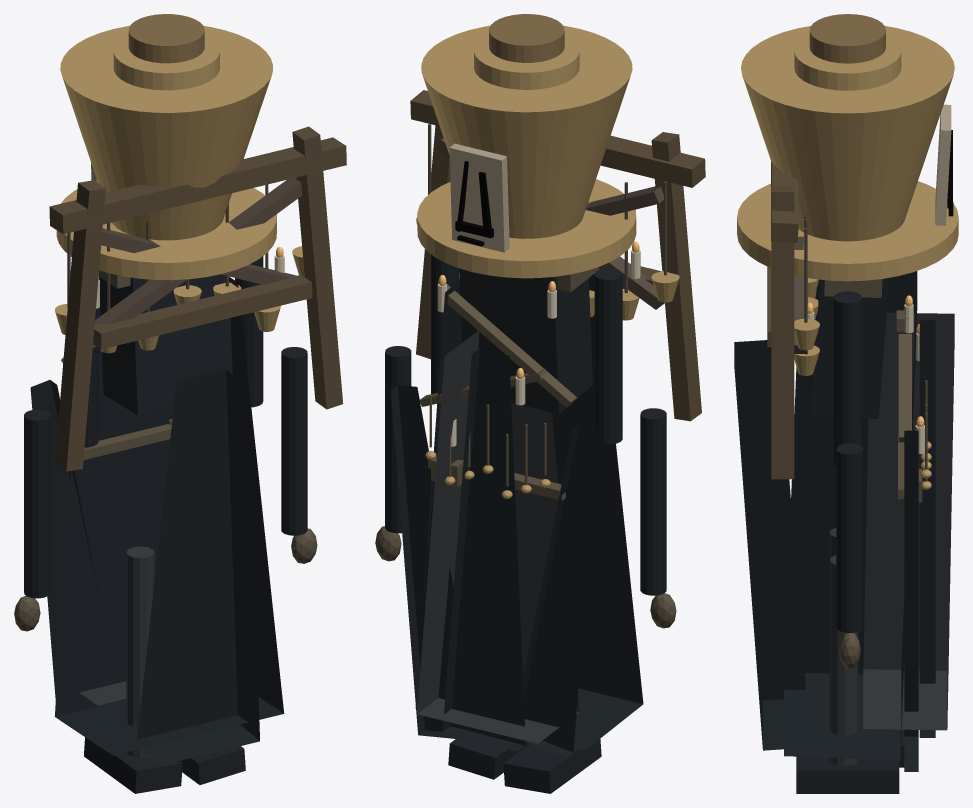
Rendered from bell_saint_v3_blockout.glb.
3 renders of one model, left to right at view 1: azimuth 30°, elevation 25°; view 2: azimuth 150°, elevation 25°; view 3: azimuth 270°, elevation 25°, orthographic.
Visible parts, largest first — view 1: BS3_BackDraggingPanel, BS3_MainRobe_tapered_mass, BS3_BellHead_outer_flared, BS3_UpperChest_under_cloth, BS3_BackFrame_left_post, BS3_BellHead_heavy_lower_rim, BS3_BackFrame_horizontal_top, BS3_BackFrame_right_post, BS3_BackFrame_horizontal_low, BS3_LeftForeSleeve_long, BS3_RightForeSleeve_long, BS3_LeftSideTornPanel (+13 smaller); view 2: BS3_BellHead_outer_flared, BS3_FrontLongTornPanel, BS3_InnerRobe_shadow, BS3_MainRobe_tapered_mass, BS3_LeftSideTornPanel, BS3_UpperChest_under_cloth, BS3_BellHead_heavy_lower_rim, BS3_RightSideTornPanel, BS3_BackFrame_left_post, BS3_LeftForeSleeve_long, BS3_LeftUpperSleeve_long, BS3_HangingWarningPlate (+15 smaller); view 3: BS3_BellHead_outer_flared, BS3_InnerRobe_shadow, BS3_MainRobe_tapered_mass, BS3_BackDraggingPanel, BS3_BellHead_heavy_lower_rim, BS3_BackFrame_right_post, BS3_FrontLongTornPanel, BS3_UpperChest_under_cloth, BS3_RightForeSleeve_long, BS3_RightSideTornPanel, BS3_RightUpperSleeve_long, BS3_RightFoot_narrow (+12 smaller).
Boxes of the visible parts, bbox=[...] form: BS3_BackDraggingPanel: bbox=[137, 369, 259, 766]; BS3_MainRobe_tapered_mass: bbox=[54, 277, 284, 755]; BS3_BellHead_outer_flared: bbox=[60, 25, 272, 240]; BS3_UpperChest_under_cloth: bbox=[99, 274, 232, 415]; BS3_BackFrame_left_post: bbox=[55, 180, 105, 471]; BS3_BellHead_heavy_lower_rim: bbox=[56, 188, 276, 280]; BS3_BackFrame_horizontal_top: bbox=[49, 137, 346, 234]; BS3_BackFrame_right_post: bbox=[292, 126, 342, 409]; BS3_BackFrame_horizontal_low: bbox=[93, 275, 312, 349]; BS3_LeftForeSleeve_long: bbox=[24, 409, 50, 598]; BS3_RightForeSleeve_long: bbox=[281, 347, 307, 535]; BS3_LeftSideTornPanel: bbox=[30, 380, 100, 700]; BS3_BellHead_outer_flared: bbox=[421, 25, 632, 238]; BS3_FrontLongTornPanel: bbox=[442, 348, 525, 751]; BS3_InnerRobe_shadow: bbox=[417, 331, 579, 743]; BS3_MainRobe_tapered_mass: bbox=[415, 273, 643, 749]; BS3_LeftSideTornPanel: bbox=[523, 423, 599, 757]; BS3_UpperChest_under_cloth: bbox=[459, 268, 592, 414]; BS3_BellHead_heavy_lower_rim: bbox=[417, 179, 636, 278]; BS3_RightSideTornPanel: bbox=[391, 385, 473, 740]; BS3_BackFrame_left_post: bbox=[651, 132, 701, 421]; BS3_LeftForeSleeve_long: bbox=[640, 408, 666, 595]; BS3_LeftUpperSleeve_long: bbox=[594, 268, 622, 444]; BS3_HangingWarningPlate: bbox=[449, 143, 509, 252]; BS3_BellHead_outer_flared: bbox=[741, 26, 954, 241]; BS3_InnerRobe_shadow: bbox=[863, 312, 954, 730]; BS3_MainRobe_tapered_mass: bbox=[784, 271, 917, 759]; BS3_BackDraggingPanel: bbox=[734, 340, 805, 750]; BS3_BellHead_heavy_lower_rim: bbox=[737, 181, 958, 281]; BS3_BackFrame_right_post: bbox=[771, 185, 794, 479]; BS3_FrontLongTornPanel: bbox=[919, 320, 935, 737]; BS3_UpperChest_under_cloth: bbox=[810, 277, 889, 419]; BS3_RightForeSleeve_long: bbox=[836, 443, 863, 632]; BS3_RightSideTornPanel: bbox=[904, 430, 918, 771]; BS3_RightUpperSleeve_long: bbox=[833, 291, 861, 466]; BS3_RightFoot_narrow: bbox=[796, 756, 899, 793].
Size of the model in its own units: 1.83 by 4.28 by 1.17.
